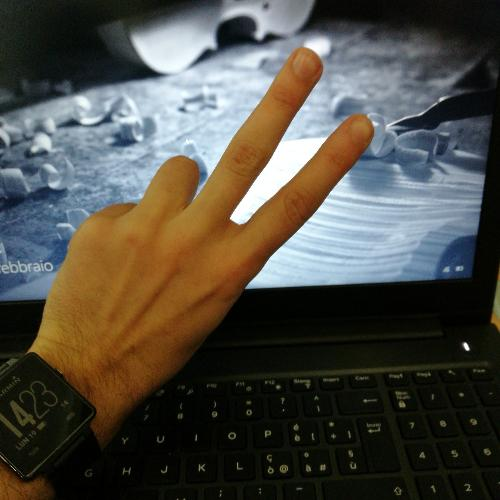scissors: (29, 42, 380, 419)
